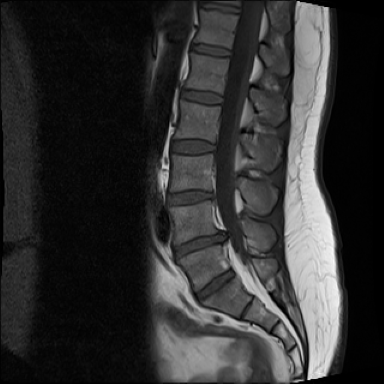Lumbar Disc Bulge (LDB): (167, 218, 240, 267), (185, 260, 251, 307), (159, 179, 224, 214)
Normal IVD: (167, 133, 219, 160), (178, 84, 225, 109), (188, 39, 233, 61), (195, 1, 244, 12)
Spinal Stenosis (SS): (208, 216, 237, 260)
